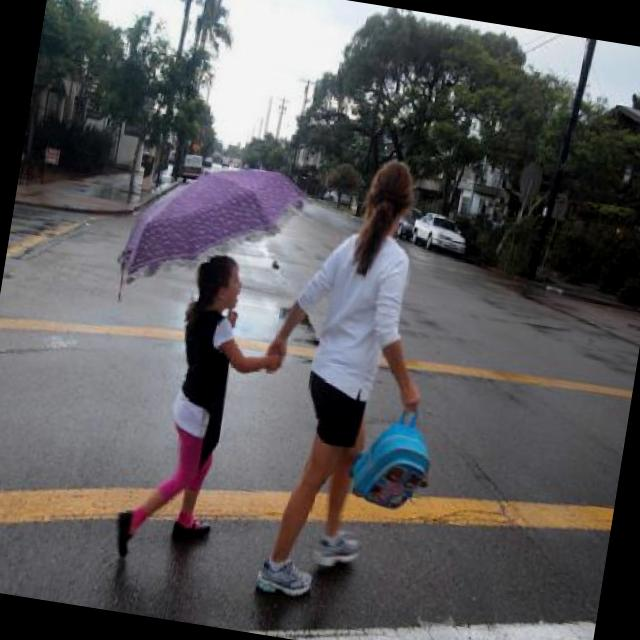Person: (229, 142, 458, 615), (116, 249, 282, 563)
